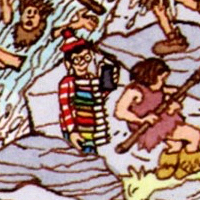waldo: (63, 33, 91, 76)
